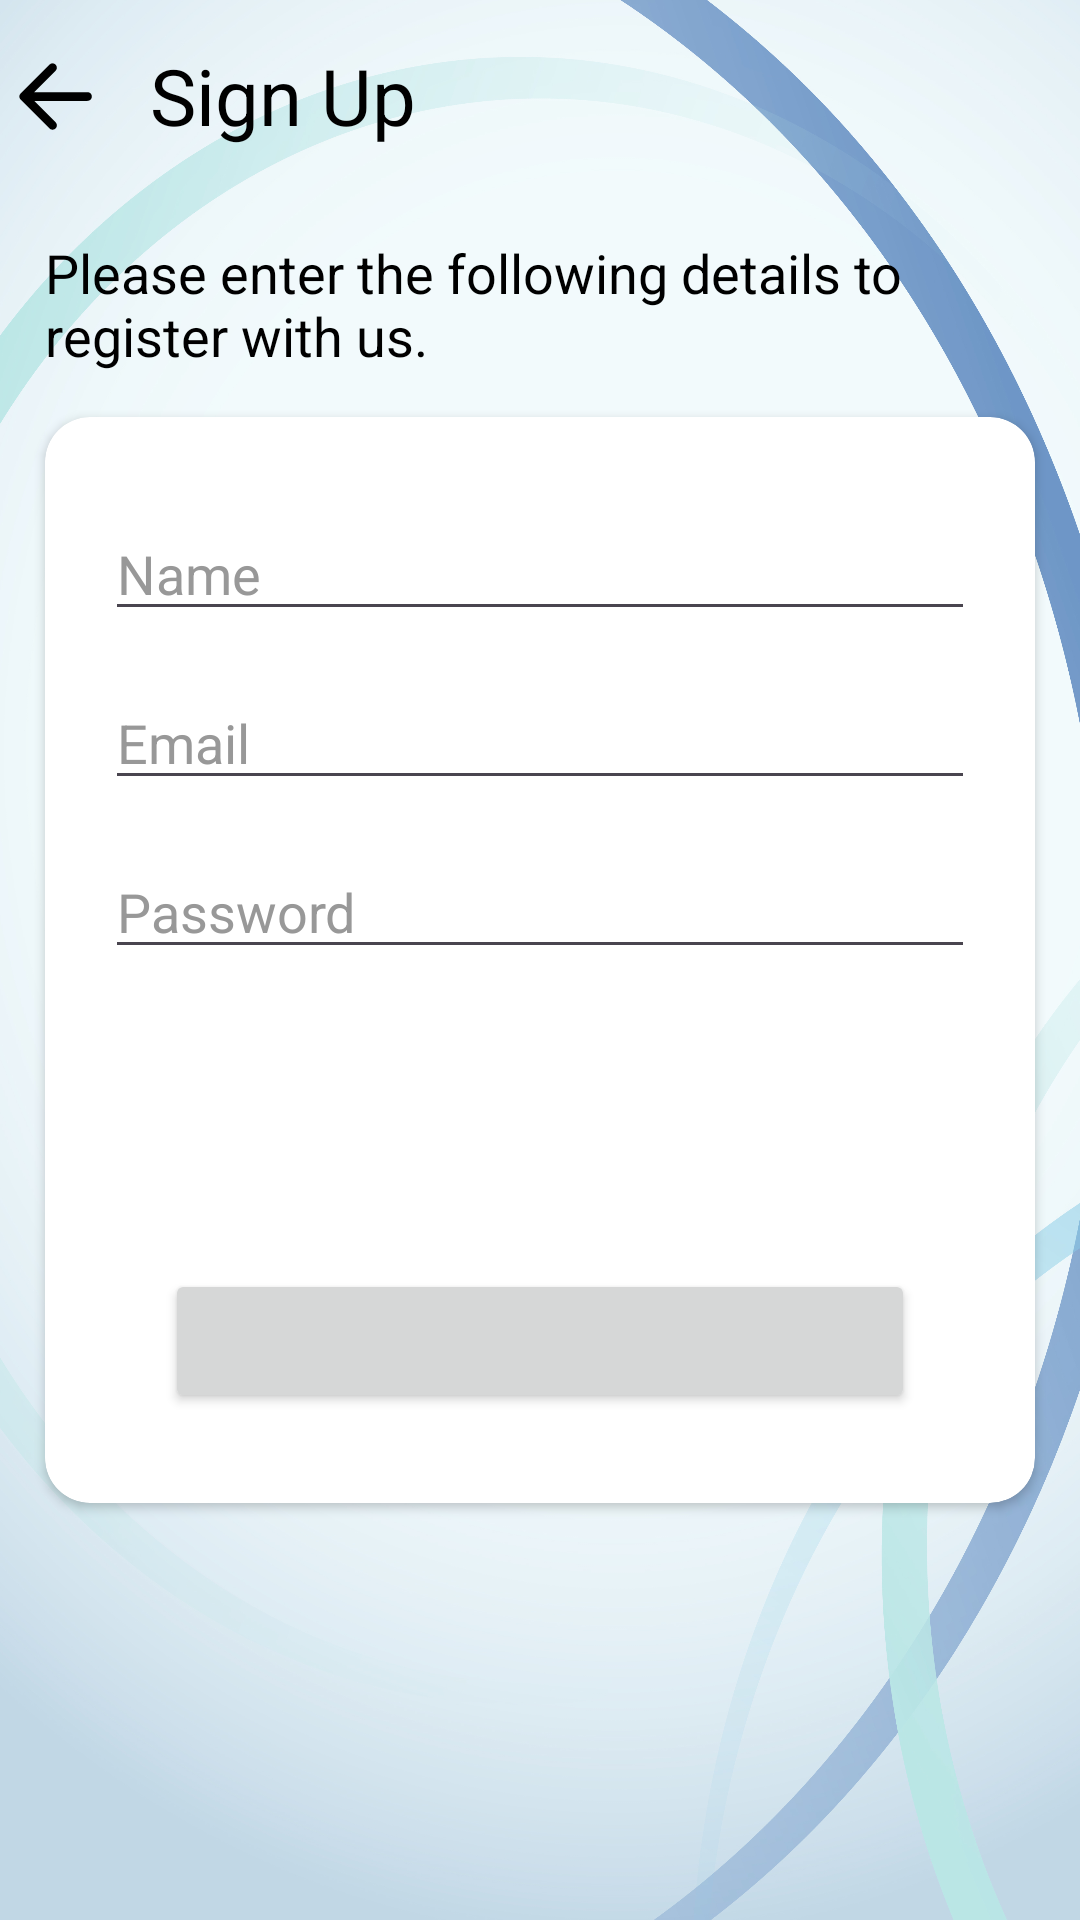

Where icons sit on this 1080 × 1920 app screen, as {"left": x1, "top": y1, "right": x2, "bottom": y2}:
back: {"left": 19, "top": 63, "right": 92, "bottom": 130}
